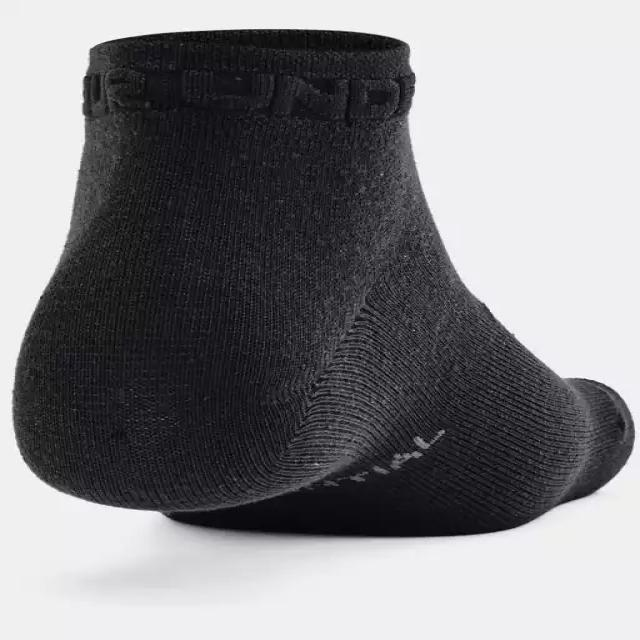sock: (10, 28, 634, 536)
